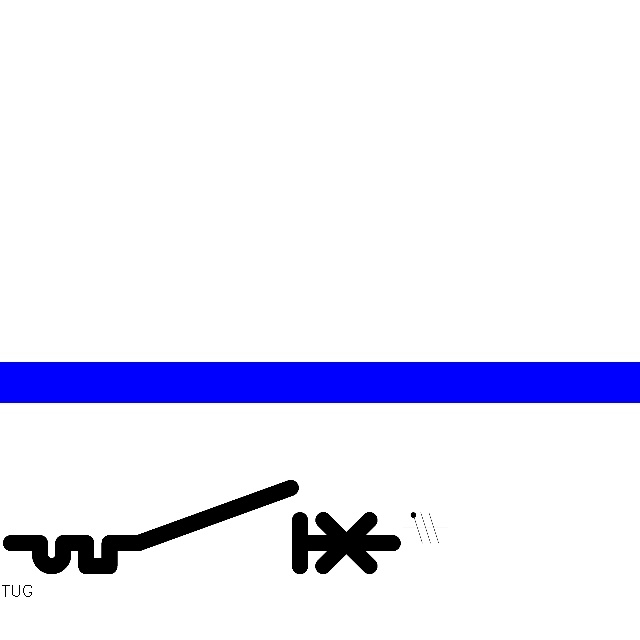interruptor_termomagnetico: (1, 478, 402, 576)
